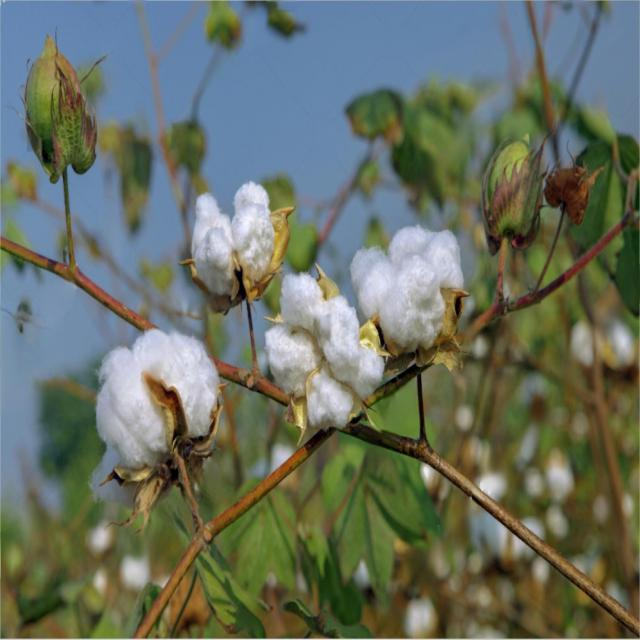Early_blight: (256, 268, 389, 433), (97, 326, 220, 479), (354, 226, 463, 348), (190, 180, 275, 301)
